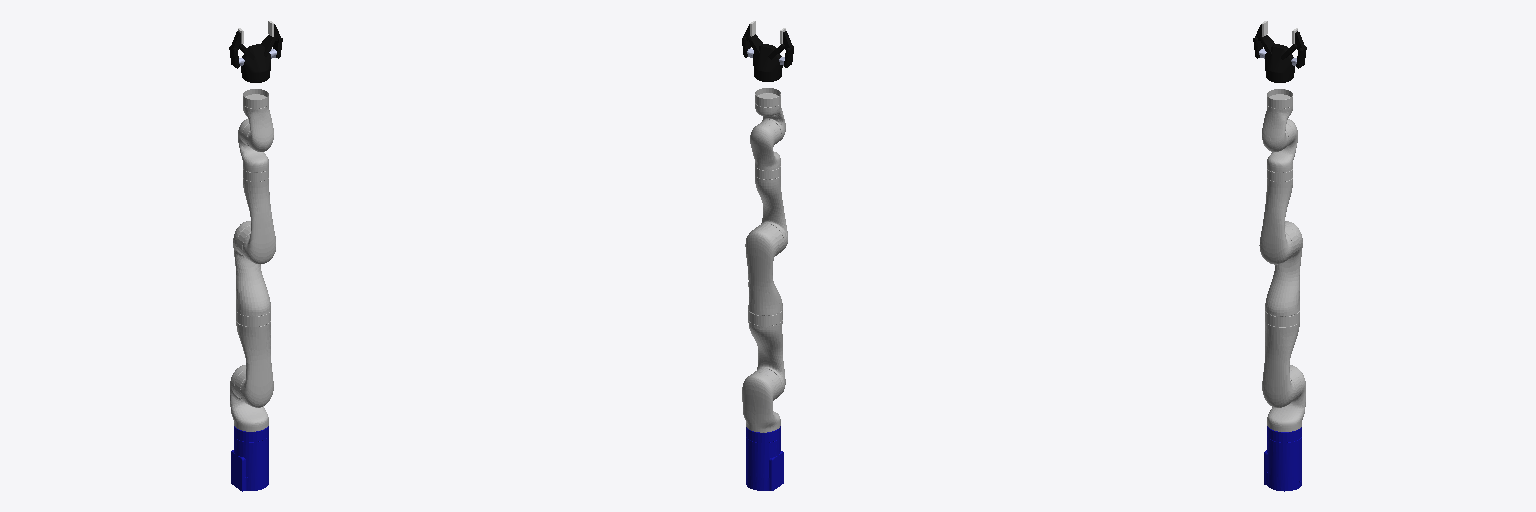
robot.urdf — gen3_robotiq_2f_85:
<?xml version="1.0" encoding="utf-8"?>
<!-- =================================================================================== -->
<!-- |    This document was autogenerated by xacro from gen3_robotiq_2f_85.xacro       | -->
<!-- |    EDITING THIS FILE BY HAND IS NOT RECOMMENDED                                 | -->
<!-- =================================================================================== -->
<robot name="gen3_robotiq_2f_85">
  <!-- Run the macros -->
  <link name="world"/>
  <link name="base_link">
    <inertial>
      <origin rpy="0 0 0" xyz="-0.000648 -0.000166 0.084487"/>
      <mass value="1.697"/>
      <inertia ixx="0.004622" ixy="9E-06" ixz="6E-05" iyy="0.004495" iyz="9E-06" izz="0.002079"/>
    </inertial>
    <visual>
      <origin rpy="0 0 0" xyz="0 0 0"/>
      <geometry>
        <mesh filename="./meshes/base_link.obj"/>
      </geometry>
      <material name="a">
        <color rgba="0.1 0.1 0.7 1"/>
      </material>
    </visual>
    <collision>
      <origin rpy="0 0 0" xyz="0 0 0"/>
      <geometry>
        <mesh filename="./meshes/base_link.obj"/>
      </geometry>
    </collision>
  </link>

  <joint name="world_to_base" type="fixed">
    <parent link="world"/>
    <child link="base_link"/>
    <origin xyz="0 0 0.02" rpy="0 0 0"/>
  </joint>

  <link name="shoulder_link">
    <inertial>
      <origin rpy="0 0 0" xyz="-2.3E-05 -0.010364 -0.07336"/>
      <mass value="1.3773"/>
      <inertia ixx="0.00457" ixy="1E-06" ixz="2E-06" iyy="0.004831" iyz="0.000448" izz="0.001409"/>
    </inertial>
    <visual>
      <origin rpy="0 0 0" xyz="0 0 0"/>
      <geometry>
        <mesh filename="./meshes/shoulder_link.obj"/>
      </geometry>
      <material name="b">
        <color rgba="0.752 0.752 0.75294 1"/>
      </material>
    </visual>
    <collision>
      <origin rpy="0 0 0" xyz="0 0 0"/>
      <geometry>
        <mesh filename="./meshes/shoulder_link.obj"/>
      </geometry>
    </collision>
  </link>
  <joint name="joint_1" type="revolute">
    <origin rpy="3.1416 2.7629E-18 -4.9305E-36" xyz="0 0 0.15643"/>
    <parent link="base_link"/>
    <child link="shoulder_link"/>
    <axis xyz="0 0 1"/>
    <limit effort="39" velocity="1.3963" lower="-3.1415" upper="3.1415"/>
  </joint>
  <link name="half_arm_1_link">
    <inertial>
      <origin rpy="0 0 0" xyz="-4.4E-05 -0.09958 -0.013278"/>
      <mass value="1.1636"/>
      <inertia ixx="0.011088" ixy="5E-06" ixz="0" iyy="0.001072" iyz="-0.000691" izz="0.011255"/>
    </inertial>
    <visual>
      <origin rpy="0 0 0" xyz="0 0 0"/>
      <geometry>
        <mesh filename="./meshes/half_arm_1_link.obj"/>
      </geometry>
      <material name="c">
        <color rgba="0.75294 0.75294 0.75294 1"/>
      </material>
    </visual>
    <collision>
      <origin rpy="0 0 0" xyz="0 0 0"/>
      <geometry>
        <mesh filename="./meshes/half_arm_1_link.obj"/>
      </geometry>
    </collision>
  </link>
  <joint name="joint_2" type="revolute">
    <origin rpy="1.5708 2.1343E-17 -1.1102E-16" xyz="0 0.005375 -0.12838"/>
    <parent link="shoulder_link"/>
    <child link="half_arm_1_link"/>
    <axis xyz="0 0 1"/>
    <limit effort="39" velocity="1.3963" lower="-2.24973" upper="2.24973"/>
  </joint>
  <link name="half_arm_2_link">
    <inertial>
      <origin rpy="0 0 0" xyz="-4.4E-05 -0.006641 -0.117892"/>
      <mass value="1.1636"/>
      <inertia ixx="0.010932" ixy="0" ixz="-7E-06" iyy="0.011127" iyz="0.000606" izz="0.001043"/>
    </inertial>
    <visual>
      <origin rpy="0 0 0" xyz="0 0 0"/>
      <geometry>
        <mesh filename="./meshes/half_arm_2_link.obj"/>
      </geometry>
      <material name="d">
        <color rgba="0.75294 0.75294 0.75294 1"/>
      </material>
    </visual>
    <collision>
      <origin rpy="0 0 0" xyz="0 0 0"/>
      <geometry>
        <mesh filename="./meshes/half_arm_2_link.obj"/>
      </geometry>
    </collision>
  </link>
  <joint name="joint_3" type="revolute">
    <origin rpy="-1.5708 1.2326E-32 -2.9122E-16" xyz="0 -0.21038 -0.006375"/>
    <parent link="half_arm_1_link"/>
    <child link="half_arm_2_link"/>
    <axis xyz="0 0 1"/>
    <limit effort="39" velocity="1.3963" lower="-3.1415" upper="3.1415"/>
  </joint>
  <link name="forearm_link">
    <inertial>
      <origin rpy="0 0 0" xyz="-1.8E-05 -0.075478 -0.015006"/>
      <mass value="0.9302"/>
      <inertia ixx="0.008147" ixy="-1E-06" ixz="0" iyy="0.000631" iyz="-0.0005" izz="0.008316"/>
    </inertial>
    <visual>
      <origin rpy="0 0 0" xyz="0 0 0"/>
      <geometry>
        <mesh filename="./meshes/forearm_link.obj"/>
      </geometry>
      <material name="e">
        <color rgba="0.75294 0.75294 0.75294 1"/>
      </material>
    </visual>
    <collision>
      <origin rpy="0 0 0" xyz="0 0 0"/>
      <geometry>
        <mesh filename="./meshes/forearm_link.obj"/>
      </geometry>
    </collision>
  </link>
  <joint name="joint_4" type="revolute">
    <origin rpy="1.5708 -6.6954E-17 -1.6653E-16" xyz="0 0.006375 -0.21038"/>
    <parent link="half_arm_2_link"/>
    <child link="forearm_link"/>
    <axis xyz="0 0 1"/>
    <limit effort="39" velocity="1.3963" lower="-2.5796" upper ="2.5796"/>
  </joint>
  <link name="spherical_wrist_1_link">
    <inertial>
      <origin rpy="0 0 0" xyz="1E-06 -0.009432 -0.063883"/>
      <mass value="0.6781"/>
      <inertia ixx="0.001596" ixy="0" ixz="0" iyy="0.001607" iyz="0.000256" izz="0.000399"/>
    </inertial>
    <visual>
      <origin rpy="0 0 0" xyz="0 0 0"/>
      <geometry>
        <mesh filename="./meshes/spherical_wrist_1_link.obj"/>
      </geometry>
      <material name="f">
        <color rgba="0.75294 0.75294 0.75294 1"/>
      </material>
    </visual>
    <collision>
      <origin rpy="0 0 0" xyz="0 0 0"/>
      <geometry>
        <mesh filename="./meshes/spherical_wrist_1_link.obj"/>
      </geometry>
    </collision>
  </link>
  <joint name="joint_5" type="revolute">
    <origin rpy="-1.5708 2.2204E-16 -6.373E-17" xyz="0 -0.20843 -0.006375"/>
    <parent link="forearm_link"/>
    <child link="spherical_wrist_1_link"/>
    <axis xyz="0 0 1"/>
    <limit effort="9" velocity="1.2218" lower="-3.1415" upper="3.1415"/>
  </joint>
  <link name="spherical_wrist_2_link">
    <inertial>
      <origin rpy="0 0 0" xyz="1E-06 -0.045483 -0.00965"/>
      <mass value="0.6781"/>
      <inertia ixx="0.001641" ixy="0" ixz="0" iyy="0.00041" iyz="-0.000278" izz="0.001641"/>
    </inertial>
    <visual>
      <origin rpy="0 0 0" xyz="0 0 0"/>
      <geometry>
        <mesh filename="./meshes/spherical_wrist_2_link.obj"/>
      </geometry>
      <material name="g">
        <color rgba="0.75294 0.75294 0.75294 1"/>
      </material>
    </visual>
    <collision>
      <origin rpy="0 0 0" xyz="0 0 0"/>
      <geometry>
        <mesh filename="./meshes/spherical_wrist_2_link.obj"/>
      </geometry>
    </collision>
  </link>
  <joint name="joint_6" type="revolute">
    <origin rpy="1.5708 9.2076E-28 -8.2157E-15" xyz="0 0.00017505 -0.10593"/>
    <parent link="spherical_wrist_1_link"/>
    <child link="spherical_wrist_2_link"/>
    <axis xyz="0 0 1"/>
    <limit effort="9" velocity="1.2218" lower="-2.0996" upper="2.0996"/>
  </joint>
  <link name="bracelet_link">
    <inertial>
      <origin rpy="0 0 0" xyz="0.000281 0.011402 -0.029798"/>
      <mass value="0.5"/>
      <inertia ixx="0.000587" ixy="3E-06" ixz="3E-06" iyy="0.000369" iyz="-0.000118" izz="0.000609"/>
    </inertial>
    <visual>
      <origin rpy="0 0 0" xyz="0 0 0"/>
      <geometry>
        <mesh filename="./meshes/bracelet_with_vision_link.obj"/>
      </geometry>
      <material name="h">
        <color rgba="0.75294 0.75294 0.75294 1"/>
      </material>
    </visual>
    <collision>
      <origin rpy="0 0 0" xyz="0 0 0"/>
      <geometry>
        <mesh filename="./meshes/bracelet_with_vision_link.obj"/>
      </geometry>
    </collision>
  </link>
  <joint name="joint_7" type="revolute">
    <origin rpy="-1.5708 -5.5511E-17 9.6396E-17" xyz="0 -0.10593 -0.00017505"/>
    <parent link="spherical_wrist_2_link"/>
    <child link="bracelet_link"/>
    <axis xyz="0 0 1"/>
    <limit effort="9" velocity="1.2218" lower="-3.1415" upper="3.1415"/>
  </joint>
  <link name="end_effector_link">
    <inertial>
        <origin xyz="0 0 0" rpy="0 0 0"/>
        <mass value="0.00001"/>
        <inertia ixx="0.00001" ixy="0.0" ixz="0.0" iyy="0.00001" iyz="0.0" izz="0.00001"/>
    </inertial>
  </link>
  <joint name="end_effector" type="fixed">
    <origin rpy="3.14159265358979 1.09937075168372E-32 0" xyz="0 0 -0.0615250000000001"/>
    <parent link="bracelet_link"/>
    <child link="end_effector_link"/>
    <axis xyz="0 0 0"/>
  </joint>
  <link name="camera_link">
    <inertial>
        <origin xyz="0 0 0" rpy="0 0 0"/>
        <mass value="0.00001"/>
        <inertia ixx="0.00001" ixy="0.0" ixz="0.0" iyy="0.00001" iyz="0.0" izz="0.00001"/>
    </inertial>
  </link>
  <joint name="camera_module" type="fixed">
    <origin rpy="3.14159265358979 3.14159265358979 0" xyz="0 0.05639 -0.00305"/>
    <parent link="end_effector_link"/>
    <child link="camera_link"/>
  </joint>
  <link name="camera_depth_frame">
    <inertial>
        <origin xyz="0 0 0" rpy="0 0 0"/>
        <mass value="0.00001"/>
        <inertia ixx="0.00001" ixy="0.0" ixz="0.0" iyy="0.00001" iyz="0.0" izz="0.00001"/>
    </inertial>
  </link>
  <joint name="depth_module" type="fixed">
    <origin rpy="3.14159265358979 3.14159265358979 0" xyz="0.0275 0.066 -0.00305"/>
    <parent link="end_effector_link"/>
    <child link="camera_depth_frame"/>
  </joint>
  <link name="camera_color_frame">
    <inertial>
        <origin xyz="0 0 0" rpy="0 0 0"/>
        <mass value="0.00001"/>
        <inertia ixx="0.00001" ixy="0.0" ixz="0.0" iyy="0.00001" iyz="0.0" izz="0.00001"/>
    </inertial>
  </link>
  <joint name="color_module" type="fixed">
    <origin rpy="3.14159265358979 3.14159265358979 0" xyz="0 0.05639 -0.00305"/>
    <parent link="end_effector_link"/>
    <child link="camera_color_frame"/>
  </joint>
  <!-- This line was removed by Kinova because we replaced the transmission file with our own 
    <xacro:include filename="$(find robotiq_2f_85_gripper_visualization)/urdf/robotiq_arg2f_transmission.xacro" /> -->
  <!-- Tool frame used by the arm -->
  <link name="tool_frame">
    <inertial>
        <origin xyz="0 0 0" rpy="0 0 0"/>
        <mass value="0.00001"/>
        <inertia ixx="0.00001" ixy="0.0" ixz="0.0" iyy="0.00001" iyz="0.0" izz="0.00001"/>
    </inertial>
  </link>
  <joint name="tool_frame_joint" type="fixed">
    <origin rpy="0 0 0" xyz="0 0 0.120"/>
    <parent link="end_effector_link"/>
    <child link="tool_frame"/>
    <axis xyz="0 0 0"/>
  </joint>
  <!-- This joint was added by Kinova -->
  <joint name="gripper_base_joint" type="fixed">
    <parent link="end_effector_link"/>
    <child link="robotiq_arg2f_base_link"/>
    <origin rpy="0.0 0.0 1.57" xyz="0.0 0.0 0.0"/>
  </joint>
  <link name="robotiq_arg2f_base_link">
    <inertial>
      <origin rpy="0 0 0" xyz="8.625E-08 -4.6583E-06 0.03145"/>
      <mass value="0.22652"/>
      <inertia ixx="0.00020005" ixy="-4.2442E-10" ixz="-2.9069E-10" iyy="0.00017832" iyz="-3.4402E-08" izz="0.00013478"/>
    </inertial>
    <visual>
      <origin rpy="0 0 0" xyz="0 0 0"/>
      <geometry>
        <!-- The OBJ file doesn't show well in Gazebo so we're using the obj instead -->
        <!-- <mesh filename="./meshes/visual/robotiq_arg2f_85_base_link.obj" scale="0.001 0.001 0.001"/> -->
        <mesh filename="./meshes/collision/robotiq_arg2f_base_link.obj"/>
      </geometry>
      <material name="i">
        <color rgba="0.1 0.1 0.1 1"/>
      </material>
    </visual>
    <collision>
      <origin rpy="0 0 0" xyz="0 0 0"/>
      <geometry>
        <mesh filename="./meshes/collision/robotiq_arg2f_base_link.obj"/>
      </geometry>
    </collision>
  </link>
  <!-- <link name="can"> -->
  <!--   <visual> -->
  <!--     <origin rpy="0 0 0" xyz="0 0.02 -0.02"/> -->
  <!--     <geometry> -->
  <!--       <sphere radius='0.0775'/> -->
  <!--     </geometry> -->
  <!--     <material name="brown"> -->
  <!--       <color rgba="0.4 0.3 0.15 1"/> -->
  <!--     </material> -->
  <!--   </visual> -->
  <!--   <collision> -->
  <!--     <origin rpy="0 0 0" xyz="0 0.02 -0.02"/> -->
  <!--     <geometry> -->
  <!--       <sphere radius='0.0775'/> -->
  <!--     </geometry> -->
  <!--   </collision> -->
  <!-- </link> -->
  <!--gazebo reference="robotiq_arg2f_base_link">
    <material>Gazebo/Black</material>
  </gazebo-->
  <link name="left_outer_knuckle">
    <inertial>
      <origin rpy="0 0 0" xyz="-0.000200000000003065 0.0199435877845359 0.0292245259211331"/>
      <mass value="0.00853198276973456"/>
      <inertia ixx="2.89328108496468E-06" ixy="-1.57935047237397E-19" ixz="-1.93980378593255E-19" iyy="1.86719750325683E-06" iyz="-1.21858577871576E-06" izz="1.21905238907251E-06"/>
    </inertial>
    <visual>
      <origin rpy="0 0 0" xyz="0 0 0"/>
      <geometry>
        <mesh filename="./meshes/visual/robotiq_arg2f_85_outer_knuckle.obj" scale="0.001 0.001 0.001"/>
      </geometry>
      <material name="j">
        <color rgba="0.792156862745098 0.819607843137255 0.933333333333333 1"/>
      </material>
    </visual>
    <collision>
      <origin rpy="0 0 0" xyz="0 0 0"/>
      <geometry>
        <mesh filename="./meshes/collision/robotiq_arg2f_85_outer_knuckle.obj" scale="0.001 0.001 0.001"/>
      </geometry>
    </collision>
  </link>
  <link name="left_outer_finger">
    <inertial>
      <origin rpy="0 0 0" xyz="0.00030115855001899 0.0373907951953854 -0.0208027427000385"/>
      <mass value="0.022614240507152"/>
      <inertia ixx="1.52518312458174E-05" ixy="9.76583423954399E-10" ixz="-5.43838577022588E-10" iyy="6.17694243867776E-06" iyz="6.78636130740228E-06" izz="1.16494917907219E-05"/>
    </inertial>
    <visual>
      <origin rpy="0 0 0" xyz="0 0 0"/>
      <geometry>
        <mesh filename="./meshes/visual/robotiq_arg2f_85_outer_finger.obj" scale="0.001 0.001 0.001"/>
      </geometry>
      <material name="k">
        <color rgba="0.1 0.1 0.1 1"/>
      </material>
    </visual>
    <collision>
      <origin rpy="0 0 0" xyz="0 0 0"/>
      <geometry>
        <mesh filename="./meshes/collision/robotiq_arg2f_85_outer_finger.obj" scale="0.001 0.001 0.001"/>
      </geometry>
    </collision>
  </link>
  <link name="left_inner_finger">
    <inertial>
      <origin rpy="0 0 0" xyz="0.000299999999999317 0.0160078233491243 -0.0136945669206257"/>
      <mass value="0.0104003125914103"/>
      <inertia ixx="2.71909453810972E-06" ixy="1.35402465472579E-21" ixz="-7.1817349065269E-22" iyy="7.69100314106116E-07" iyz="6.74715432769696E-07" izz="2.30315190420171E-06"/>
    </inertial>
    <visual>
      <origin rpy="0 0 0" xyz="0 0 0"/>
      <geometry>
        <mesh filename="./meshes/visual/robotiq_arg2f_85_inner_finger.obj" scale="0.001 0.001 0.001"/>
      </geometry>
      <material name="l">
        <color rgba="0.1 0.1 0.1 1"/>
      </material>
    </visual>
    <collision>
      <origin rpy="0 0 0" xyz="0 0 0"/>
      <geometry>
        <mesh filename="./meshes/collision/robotiq_arg2f_85_inner_finger.obj" scale="0.001 0.001 0.001"/>
      </geometry>
    </collision>
  </link>
  <link name="left_inner_finger_pad">
    <visual>
      <origin rpy="0 0 0" xyz="0 0 0"/>
      <geometry>
        <box size="0.022 0.00635 0.0375"/>
      </geometry>
      <material name="m">
        <color rgba="0.9 0.9 0.9 1"/>
      </material>
    </visual>
    <collision>
      <origin rpy="0 0 0" xyz="0 0 0"/>
      <geometry>
        <box size="0.022 0.00635 0.0375"/>
      </geometry>
      <material name="n">
        <color rgba="0.9 0.0 0.0 1"/>
      </material>
    </collision>
  </link>
  <link name="left_inner_knuckle">
    <inertial>
      <origin rpy="0 0 0" xyz="0.000123011831763771 0.0507850843201817 0.00103968640075166"/>
      <mass value="0.0271177346495152"/>
      <inertia ixx="2.61910379223783E-05" ixy="-2.43616858946494E-07" ixz="-6.37789906117123E-09" iyy="2.8270243746167E-06" iyz="-5.37200748039765E-07" izz="2.83695868220296E-05"/>
    </inertial>
    <visual>
      <origin rpy="0 0 0" xyz="0 0 0"/>
      <geometry>
        <mesh filename="./meshes/visual/robotiq_arg2f_85_inner_knuckle.obj" scale="0.001 0.001 0.001"/>
      </geometry>
      <material name="n">
        <color rgba="0.1 0.1 0.1 1"/>
      </material>
    </visual>
    <collision>
      <origin rpy="0 0 0" xyz="0 0 0"/>
      <geometry>
        <mesh filename="./meshes/collision/robotiq_arg2f_85_inner_knuckle.obj" scale="0.001 0.001 0.001"/>
      </geometry>
    </collision>
  </link>
  <link name="right_outer_knuckle">
    <inertial>
      <origin rpy="0 0 0" xyz="-0.000200000000003065 0.0199435877845359 0.0292245259211331"/>
      <mass value="0.00853198276973456"/>
      <inertia ixx="2.89328108496468E-06" ixy="-1.57935047237397E-19" ixz="-1.93980378593255E-19" iyy="1.86719750325683E-06" iyz="-1.21858577871576E-06" izz="1.21905238907251E-06"/>
    </inertial>
    <visual>
      <origin rpy="0 0 0" xyz="0 0 0"/>
      <geometry>
        <mesh filename="./meshes/visual/robotiq_arg2f_85_outer_knuckle.obj" scale="0.001 0.001 0.001"/>
      </geometry>
      <material name="o">
        <color rgba="0.792156862745098 0.819607843137255 0.933333333333333 1"/>
      </material>
    </visual>
    <collision>
      <origin rpy="0 0 0" xyz="0 0 0"/>
      <geometry>
        <mesh filename="./meshes/collision/robotiq_arg2f_85_outer_knuckle.obj" scale="0.001 0.001 0.001"/>
      </geometry>
    </collision>
  </link>
  <link name="right_outer_finger">
    <inertial>
      <origin rpy="0 0 0" xyz="0.00030115855001899 0.0373907951953854 -0.0208027427000385"/>
      <mass value="0.022614240507152"/>
      <inertia ixx="1.52518312458174E-05" ixy="9.76583423954399E-10" ixz="-5.43838577022588E-10" iyy="6.17694243867776E-06" iyz="6.78636130740228E-06" izz="1.16494917907219E-05"/>
    </inertial>
    <visual>
      <origin rpy="0 0 0" xyz="0 0 0"/>
      <geometry>
        <mesh filename="./meshes/visual/robotiq_arg2f_85_outer_finger.obj" scale="0.001 0.001 0.001"/>
      </geometry>
      <material name="p">
        <color rgba="0.1 0.1 0.1 1"/>
      </material>
    </visual>
    <collision>
      <origin rpy="0 0 0" xyz="0 0 0"/>
      <geometry>
        <mesh filename="./meshes/collision/robotiq_arg2f_85_outer_finger.obj" scale="0.001 0.001 0.001"/>
      </geometry>
    </collision>
  </link>
  <link name="right_inner_finger">
    <inertial>
      <origin rpy="0 0 0" xyz="0.000299999999999317 0.0160078233491243 -0.0136945669206257"/>
      <mass value="0.0104003125914103"/>
      <inertia ixx="2.71909453810972E-06" ixy="1.35402465472579E-21" ixz="-7.1817349065269E-22" iyy="7.69100314106116E-07" iyz="6.74715432769696E-07" izz="2.30315190420171E-06"/>
    </inertial>
    <visual>
      <origin rpy="0 0 0" xyz="0 0 0"/>
      <geometry>
        <mesh filename="./meshes/visual/robotiq_arg2f_85_inner_finger.obj" scale="0.001 0.001 0.001"/>
      </geometry>
      <material name="q">
        <color rgba="0.1 0.1 0.1 1"/>
      </material>
    </visual>
    <collision>
      <origin rpy="0 0 0" xyz="0 0 0"/>
      <geometry>
        <mesh filename="./meshes/collision/robotiq_arg2f_85_inner_finger.obj" scale="0.001 0.001 0.001"/>
      </geometry>
    </collision>
  </link>
  <link name="right_inner_finger_pad">
    <inertial>
        <origin xyz="0 0 0" rpy="0 0 0"/>
        <mass value="0.00001"/>
        <inertia ixx="0.00001" ixy="0.0" ixz="0.0" iyy="0.00001" iyz="0.0" izz="0.00001"/>
    </inertial>
    <visual>
      <origin rpy="0 0 0" xyz="0 0 0"/>
      <geometry>
        <box size="0.022 0.00635 0.0375"/>
      </geometry>
      <material name="r">
        <color rgba="0.9 0.9 0.9 1"/>
      </material>
    </visual>
    <collision>
      <origin rpy="0 0 0" xyz="0 0 0"/>
      <geometry>
        <box size="0.022 0.00635 0.0375"/>
      </geometry>
      <material name="s">
        <color rgba="0.9 0.0 0.0 1"/>
      </material>
    </collision>
  </link>
  <link name="right_inner_knuckle">
    <inertial>
      <origin rpy="0 0 0" xyz="0.000123011831763771 0.0507850843201817 0.00103968640075166"/>
      <mass value="0.0271177346495152"/>
      <inertia ixx="2.61910379223783E-05" ixy="-2.43616858946494E-07" ixz="-6.37789906117123E-09" iyy="2.8270243746167E-06" iyz="-5.37200748039765E-07" izz="2.83695868220296E-05"/>
    </inertial>
    <visual>
      <origin rpy="0 0 0" xyz="0 0 0"/>
      <geometry>
        <mesh filename="./meshes/visual/robotiq_arg2f_85_inner_knuckle.obj" scale="0.001 0.001 0.001"/>
      </geometry>
      <material name="t">
        <color rgba="0.1 0.1 0.1 1"/>
      </material>
    </visual>
    <collision>
      <origin rpy="0 0 0" xyz="0 0 0"/>
      <geometry>
        <mesh filename="./meshes/collision/robotiq_arg2f_85_inner_knuckle.obj" scale="0.001 0.001 0.001"/>
      </geometry>
    </collision>
  </link>
  <joint name="finger_joint" type="fixed">
    <origin rpy="0 0 3.14159265359" xyz="0 -0.0306011 0.054904"/>
    <parent link="robotiq_arg2f_base_link"/>
    <child link="left_outer_knuckle"/>
    <axis xyz="1 0 0"/>
  </joint>
  <joint name="left_outer_finger_joint" type="fixed">
    <origin rpy="0 0 0" xyz="0 0.0315 -0.0041"/>
    <parent link="left_outer_knuckle"/>
    <child link="left_outer_finger"/>
    <axis xyz="1 0 0"/>
  </joint>
  <joint name="left_inner_knuckle_joint" type="fixed">
    <!-- <origin xyz="0 ${reflect * -0.0127} 0.06142" rpy="${pi / 2 + .725} 0 ${(reflect - 1) * pi / 2}" /> -->
    <origin rpy="0 0 3.14159265359" xyz="0 -0.0127 0.06142"/>
    <parent link="robotiq_arg2f_base_link"/>
    <child link="left_inner_knuckle"/>
    <axis xyz="1 0 0"/>
  </joint>
  <joint name="left_inner_finger_joint" type="fixed">
    <origin rpy="0 0 0" xyz="0 0.0061 0.0471"/>
    <parent link="left_outer_finger"/>
    <child link="left_inner_finger"/>
    <axis xyz="1 0 0"/>
  </joint>
  <joint name="left_inner_finger_pad_joint" type="fixed">
    <origin rpy="0 0 0" xyz="0 -0.0220203446692936 0.03242"/>
    <parent link="left_inner_finger"/>
    <child link="left_inner_finger_pad"/>
    <axis xyz="0 0 1"/>
  </joint>
  <joint name="right_outer_knuckle_joint" type="fixed">
    <origin rpy="0 0 0" xyz="0 0.0306011 0.054904"/>
    <parent link="robotiq_arg2f_base_link"/>
    <child link="right_outer_knuckle"/>
    <axis xyz="1 0 0"/>
  </joint>
  <joint name="right_outer_finger_joint" type="fixed">
    <origin rpy="0 0 0" xyz="0 0.0315 -0.0041"/>
    <parent link="right_outer_knuckle"/>
    <child link="right_outer_finger"/>
    <axis xyz="1 0 0"/>
  </joint>
  <joint name="right_inner_knuckle_joint" type="fixed">
    <!-- <origin xyz="0 ${reflect * -0.0127} 0.06142" rpy="${pi / 2 + .725} 0 ${(reflect - 1) * pi / 2}" /> -->
    <origin rpy="0 0 0.0" xyz="0 0.0127 0.06142"/>
    <parent link="robotiq_arg2f_base_link"/>
    <child link="right_inner_knuckle"/>
    <axis xyz="1 0 0"/>
  </joint>
  <joint name="right_inner_finger_joint" type="fixed">
    <origin rpy="0 0 0" xyz="0 0.0061 0.0471"/>
    <parent link="right_outer_finger"/>
    <child link="right_inner_finger"/>
    <axis xyz="1 0 0"/>
  </joint>
  <joint name="right_inner_finger_pad_joint" type="fixed">
    <origin rpy="0 0 0" xyz="0 -0.0220203446692936 0.03242"/>
    <parent link="right_inner_finger"/>
    <child link="right_inner_finger_pad"/>
    <axis xyz="0 0 1"/>
  </joint>
  <!-- Transmissions are loaded in the generic kortex xacro when simulation is enabled -->
  <!-- <xacro:robotiq_arg2f_transmission prefix="${prefix}"/> -->
</robot>

--- Render facts (derived) ---
The picture shows the robot from 3 angles, left to right: view 1: azimuth 30°, elevation 25°; view 2: azimuth 150°, elevation 25°; view 3: azimuth 330°, elevation 25°; orthographic projection.
Model gen3_robotiq_2f_85 with 25 links and 24 joints (7 revolute, 17 fixed), rooted at world, posed every joint at zero.
Visible links, largest first — view 1: half_arm_1_link, forearm_link, base_link, half_arm_2_link, spherical_wrist_2_link, shoulder_link, robotiq_arg2f_base_link, spherical_wrist_1_link; view 2: half_arm_2_link, base_link, shoulder_link, half_arm_1_link, forearm_link, spherical_wrist_1_link, spherical_wrist_2_link, robotiq_arg2f_base_link; view 3: half_arm_1_link, forearm_link, base_link, half_arm_2_link, spherical_wrist_2_link, shoulder_link, robotiq_arg2f_base_link, spherical_wrist_1_link.
Link boxes in pixels (left/top/right/bottom): half_arm_1_link: left=236, top=311, right=273, bottom=407; forearm_link: left=243, top=169, right=275, bottom=263; base_link: left=231, top=426, right=268, bottom=491; half_arm_2_link: left=233, top=221, right=270, bottom=316; spherical_wrist_2_link: left=243, top=89, right=273, bottom=151; shoulder_link: left=230, top=365, right=268, bottom=431; robotiq_arg2f_base_link: left=241, top=44, right=270, bottom=82; spherical_wrist_1_link: left=238, top=119, right=268, bottom=172; half_arm_2_link: left=745, top=223, right=783, bottom=315; base_link: left=746, top=426, right=783, bottom=490; shoulder_link: left=742, top=368, right=781, bottom=432; half_arm_1_link: left=748, top=309, right=785, bottom=394; forearm_link: left=755, top=166, right=787, bottom=252; spherical_wrist_1_link: left=750, top=120, right=781, bottom=170; spherical_wrist_2_link: left=755, top=88, right=785, bottom=140; robotiq_arg2f_base_link: left=753, top=44, right=782, bottom=81; half_arm_1_link: left=1262, top=311, right=1299, bottom=407; forearm_link: left=1259, top=169, right=1292, bottom=264; base_link: left=1264, top=426, right=1301, bottom=491; half_arm_2_link: left=1265, top=221, right=1302, bottom=316; spherical_wrist_2_link: left=1262, top=89, right=1292, bottom=151; shoulder_link: left=1267, top=365, right=1305, bottom=431; robotiq_arg2f_base_link: left=1265, top=44, right=1294, bottom=82; spherical_wrist_1_link: left=1267, top=119, right=1297, bottom=172.
Bounding box of the posed robot: 0.1484 × 0.1267 × 1.34 m (x, y, z).
16 mesh visuals loaded from 13 distinct referenced files (12 OBJ); not drawn: 1 (reference not matched to a file when rendering).